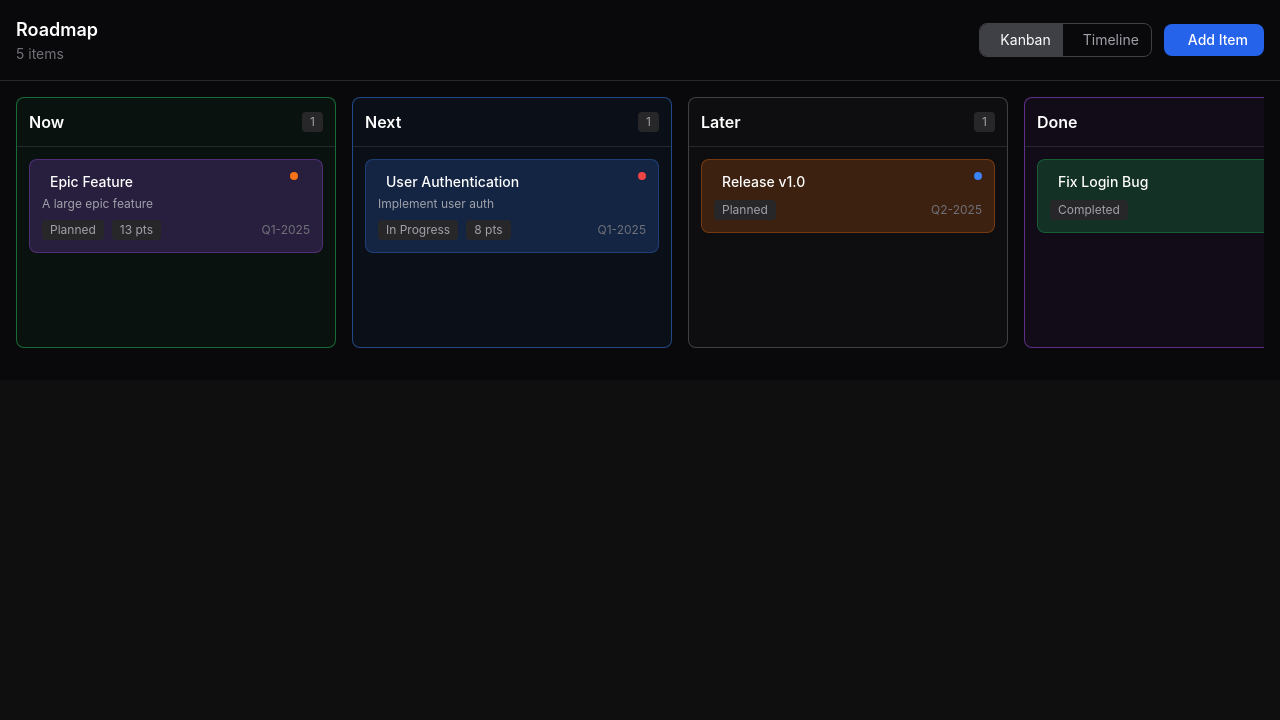
RoadmapPanel › Item Selection and Detail Panel › should show detail panel when item is clicked
Click the text "Epic Feature": (92, 182) [50, 172, 133, 192]
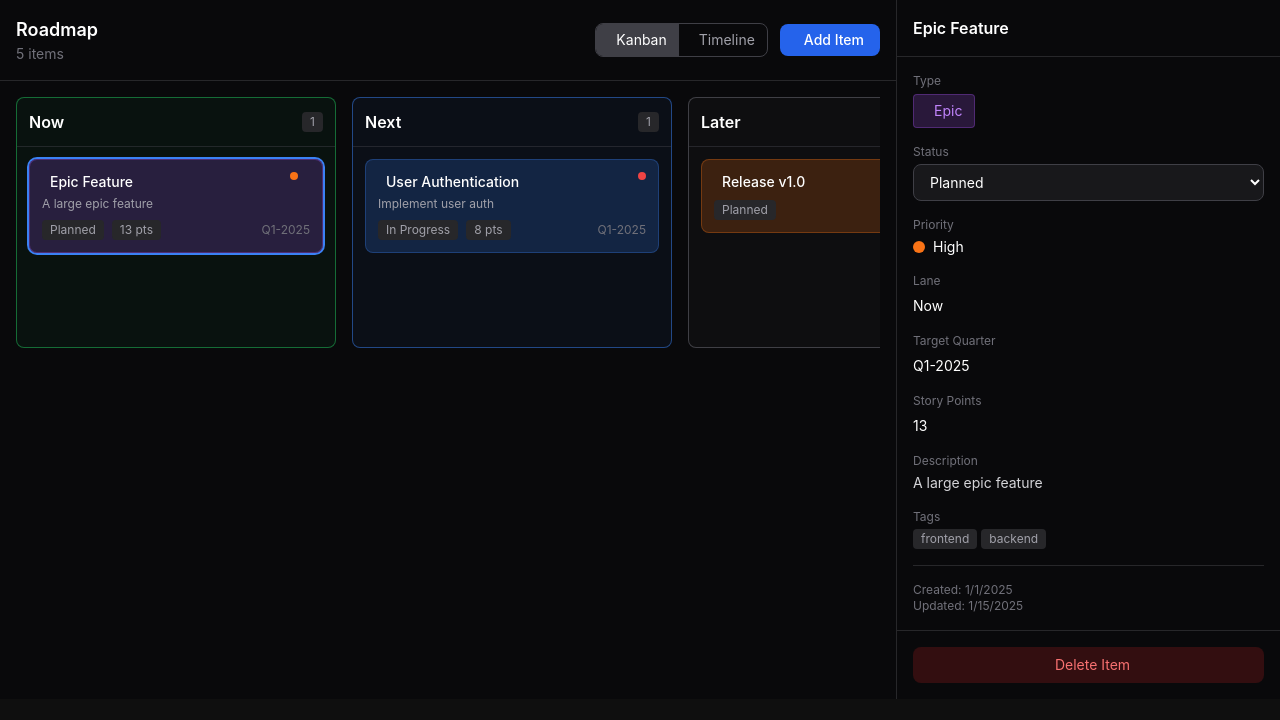
Result: the text "Type" is shown at [913, 73, 941, 88]
Result: the text "Status" is shown at [913, 144, 949, 159]
Result: the text "Priority" is shown at [913, 217, 954, 232]
